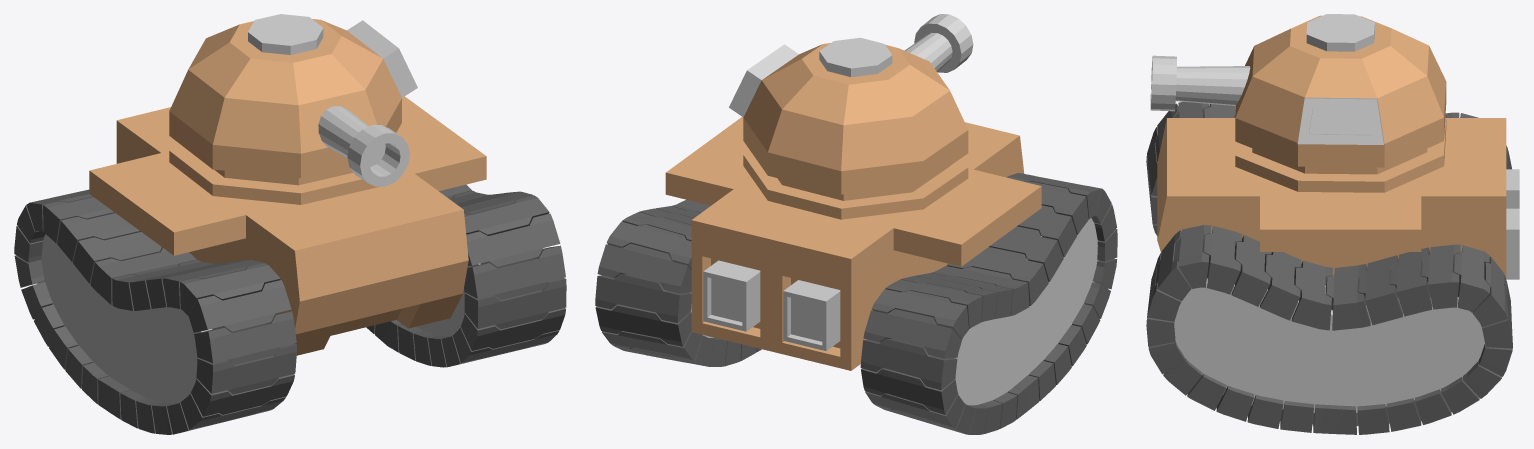
Rendered from EnemyTank.fbx.
3 views of the same model, side by side, from view 1: azimuth 30°, elevation 25°; view 2: azimuth 150°, elevation 25°; view 3: azimuth 270°, elevation 25° (orthographic). The views are drawn at different scales.
Parts seen in each view (by area): view 1: Plane; view 2: Plane; view 3: Plane.
Part boxes in pixels (x1,y1,x2,y2): Plane: [14, 14, 566, 434]; Plane: [595, 14, 1117, 434]; Plane: [1146, 14, 1519, 434].
Bounding box in the file's own units: 270 × 237 × 249.
